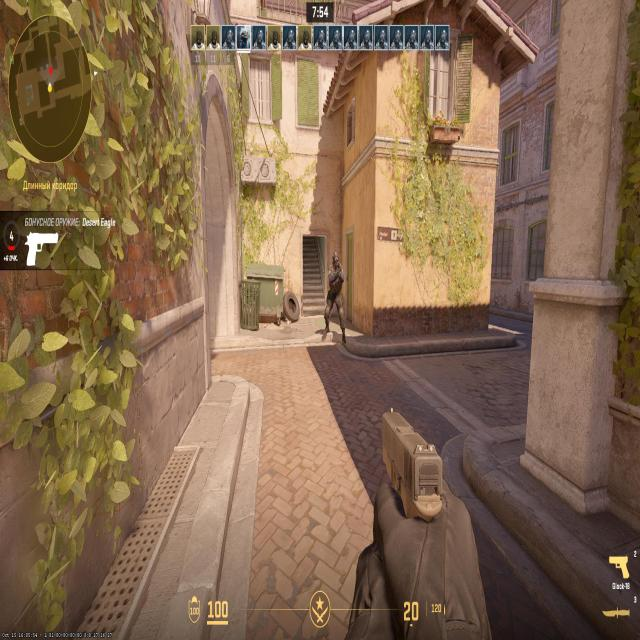CT: (329, 252, 344, 337)
CT_heat: (332, 253, 337, 274)
